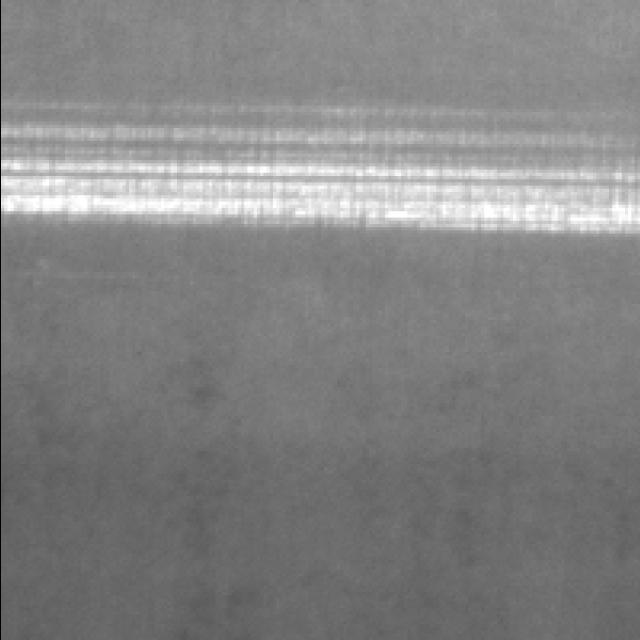scratches: (0, 104, 640, 215)
